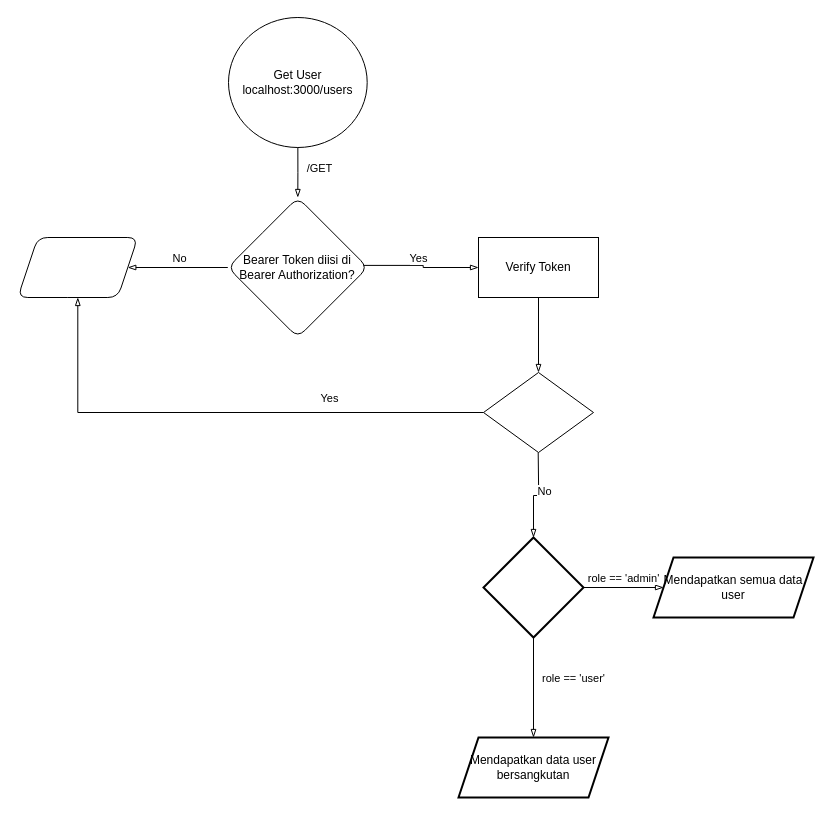
Some shapes in this 832 by 816 pixel diagram are drawn without their labels. Here are the shapes that lost their labels. From the top down, the box of each, then its label:
(17, 236, 138, 298): Forbidden
(482, 372, 594, 452): Token Expired
(482, 536, 584, 638): Role?
